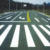zebra: (1, 25, 50, 47)
